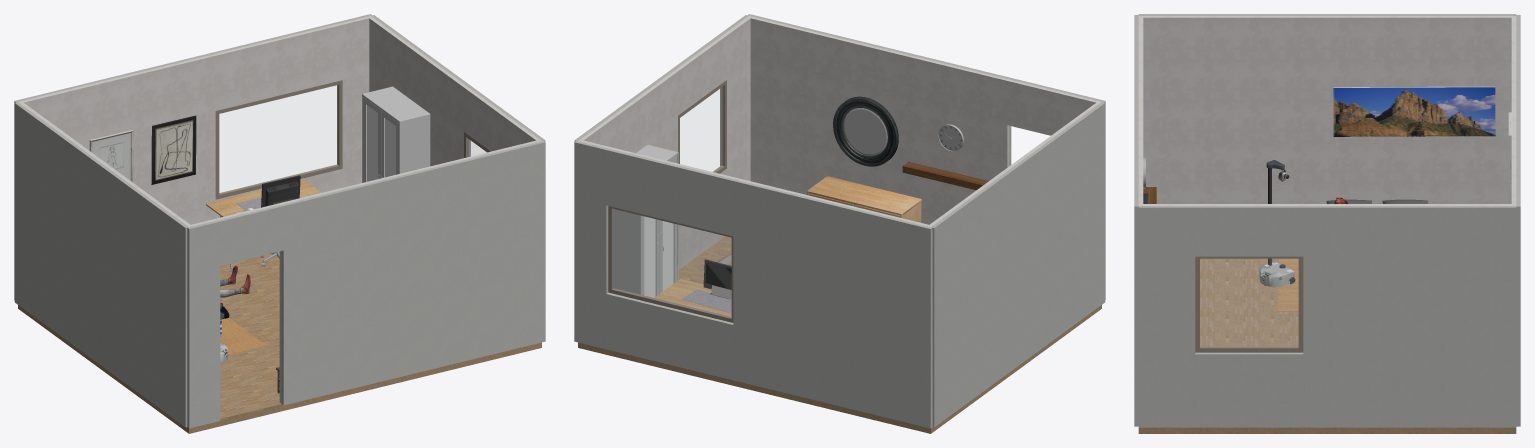
3 views of the same model, side by side, from view 1: azimuth 30°, elevation 25°; view 2: azimuth 150°, elevation 25°; view 3: azimuth 270°, elevation 25° (orthographic). The views are drawn at different scales.
Parts seen in each view (by area): view 1: world (×12), room_geometry_bedroom__v0, glass, frame, P_da0a1b4ea539ee8c.001, P_fb844cd6a74bd8b2.001, bedroom_rug_0, P_ac2c10a63efbaf87.001, P_11823adfd27b5318.001; view 2: world (×13), glass (×2), room_geometry_bedroom__v0, frame (×2), P_ebb5f6f3a411bfcc.001, CLASSIC.002, P_ac2c10a63efbaf87.001, P_11823adfd27b5318.001, bedroom_desk_mat_0; view 3: world (×9), room_geometry_bedroom__v0, glass, frame, bedroom_rug_0, robot_Pantone_Cool_Gray_4_U.
Part boxes in pixels (box(x1,y1,x2,y2)): world (×12): box(14, 14, 545, 428); room_geometry_bedroom__v0: box(18, 254, 541, 433); glass: box(219, 85, 337, 193); frame: box(215, 80, 342, 199); P_da0a1b4ea539ee8c.001: box(399, 113, 430, 173); P_fb844cd6a74bd8b2.001: box(362, 87, 429, 122); bedroom_rug_0: box(220, 318, 266, 354); P_ac2c10a63efbaf87.001: box(367, 105, 377, 181); P_11823adfd27b5318.001: box(385, 118, 395, 177); world (×13): box(574, 14, 1105, 428); glass (×2): box(613, 87, 731, 317); room_geometry_bedroom__v0: box(578, 236, 1101, 433); frame (×2): box(608, 80, 733, 322); P_ebb5f6f3a411bfcc.001: box(613, 209, 641, 294); CLASSIC.002: box(902, 161, 988, 190); P_ac2c10a63efbaf87.001: box(644, 216, 655, 297); P_11823adfd27b5318.001: box(662, 221, 673, 290); bedroom_desk_mat_0: box(682, 289, 731, 313); world (×9): box(1134, 14, 1520, 427); room_geometry_bedroom__v0: box(1138, 258, 1516, 433); glass: box(1200, 259, 1298, 346); frame: box(1195, 256, 1303, 352); bedroom_rug_0: box(1278, 258, 1298, 311); robot_Pantone_Cool_Gray_4_U: box(1259, 172, 1294, 287).
Size of the model in its own units: 5.1 by 2.8 by 4.3.
61 materials, 28 textured.
